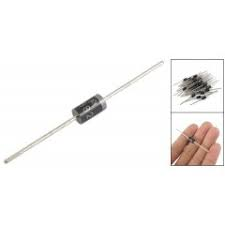diode: (66, 88, 121, 144)
